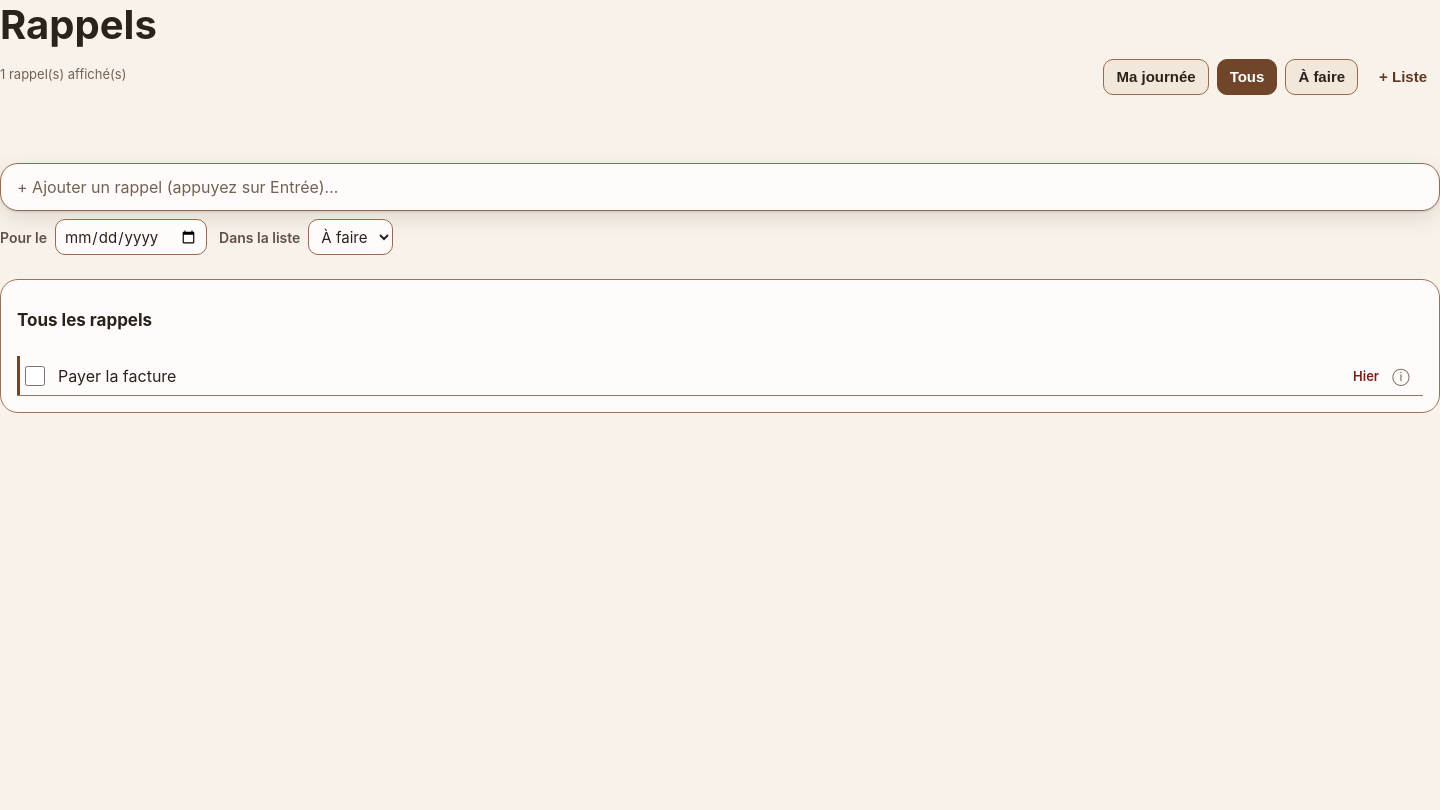
Test case: RemindersScreen › ouvre le panneau avancé (i) et modifie les propriétés du rappel
The image size is (1440, 810).
Click the button named "Propriétés avancées de « Payer la facture »": click(1401, 376) 1387,362 -> 1415,390
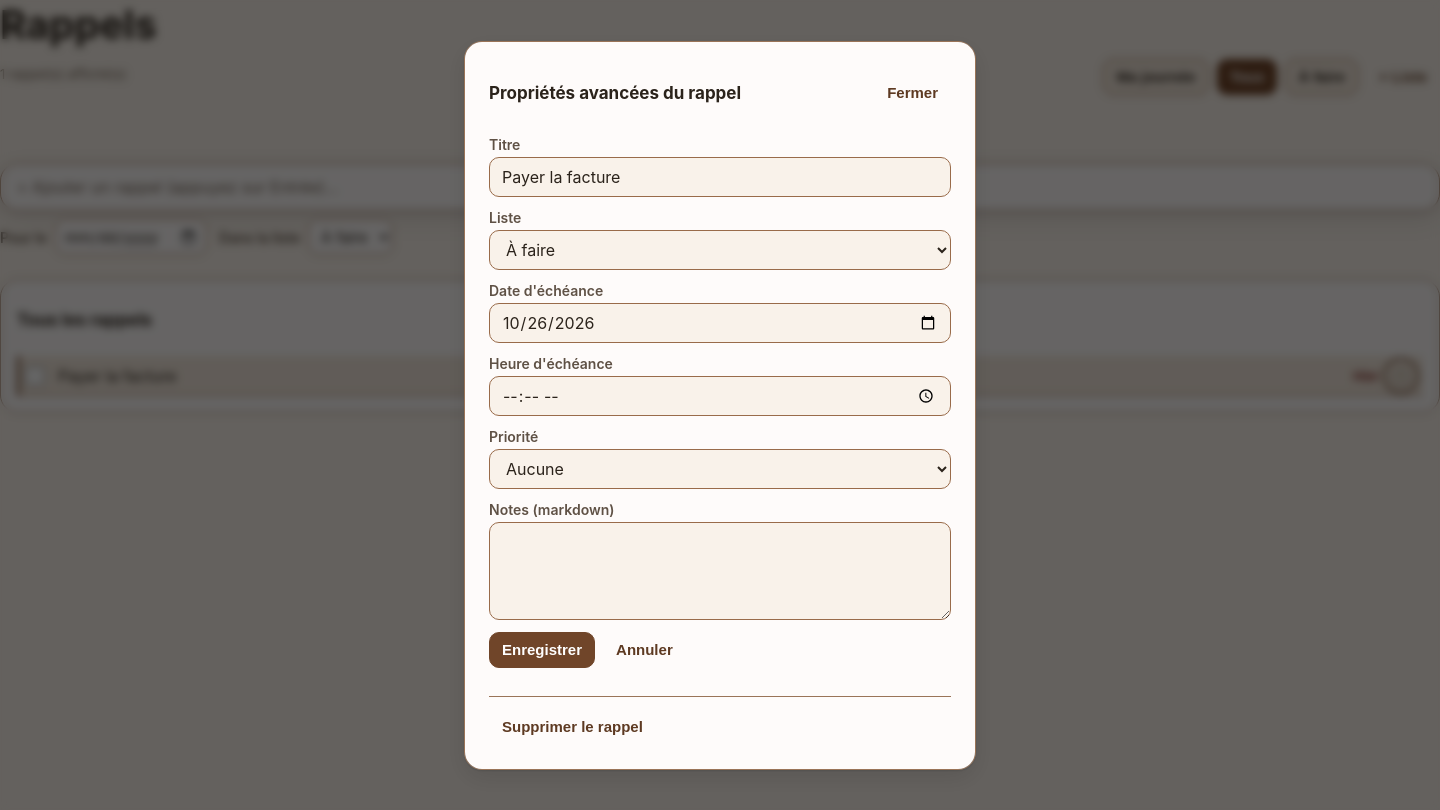
Check: the dialog shows "Propriétés avancées du rappel", box 489,82 -> 741,102
Replace the text in the field labelled "Titre" with "Facture payée et validée": (720, 176) 489,156 -> 951,196
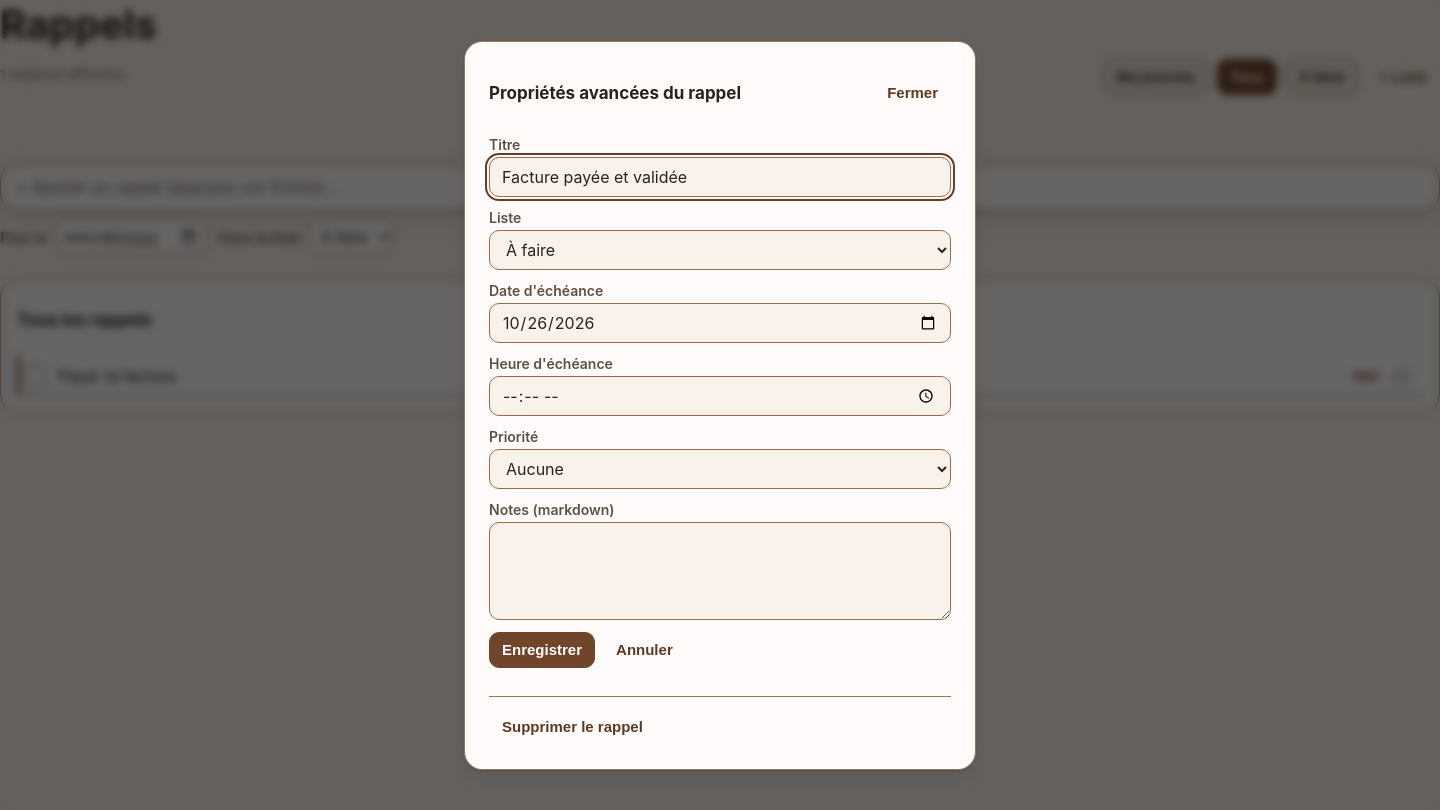
Select "Haute" in the dropdown labelled "Priorité": (720, 469) 489,449 -> 951,489
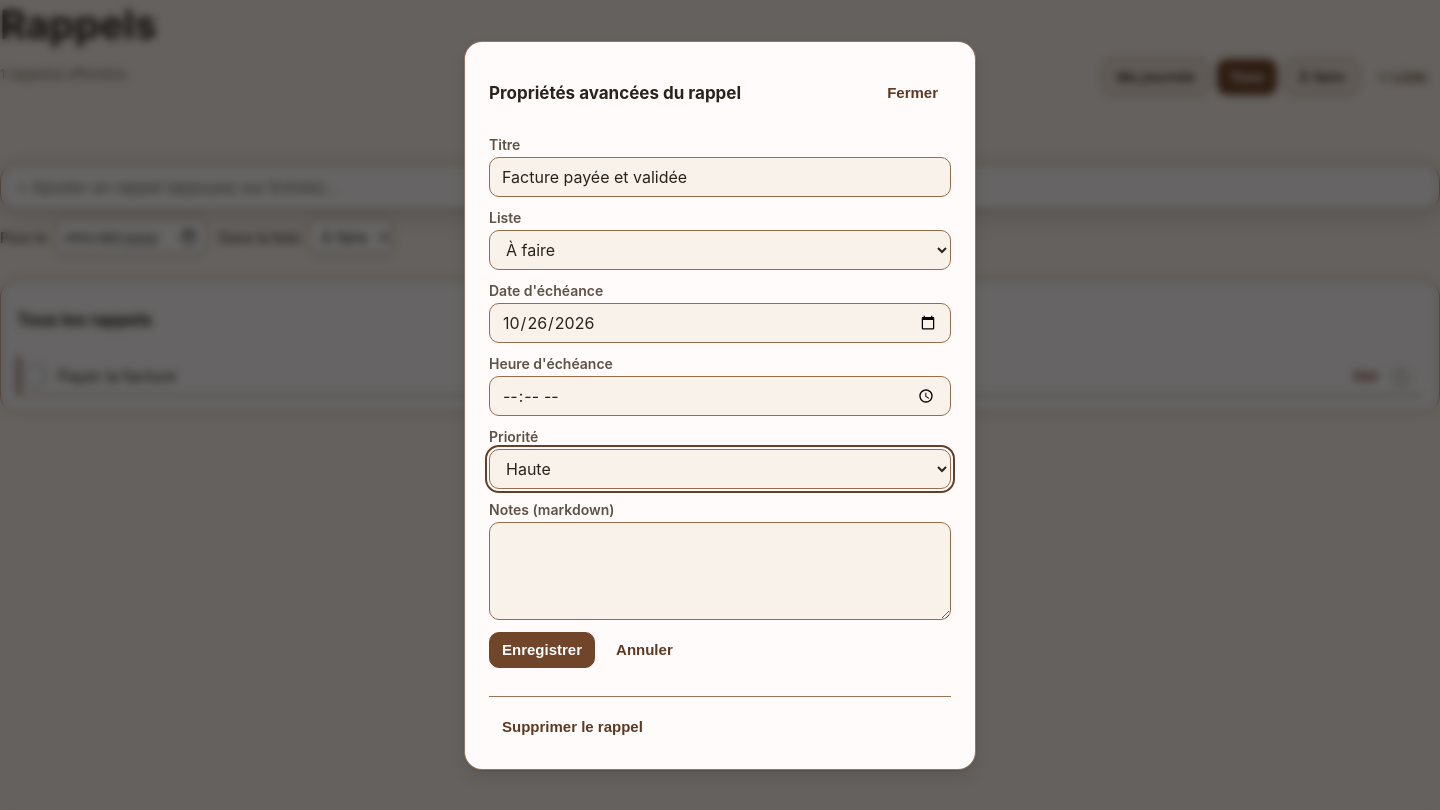
Click the button "Enregistrer": click(542, 650) 489,632 -> 595,668
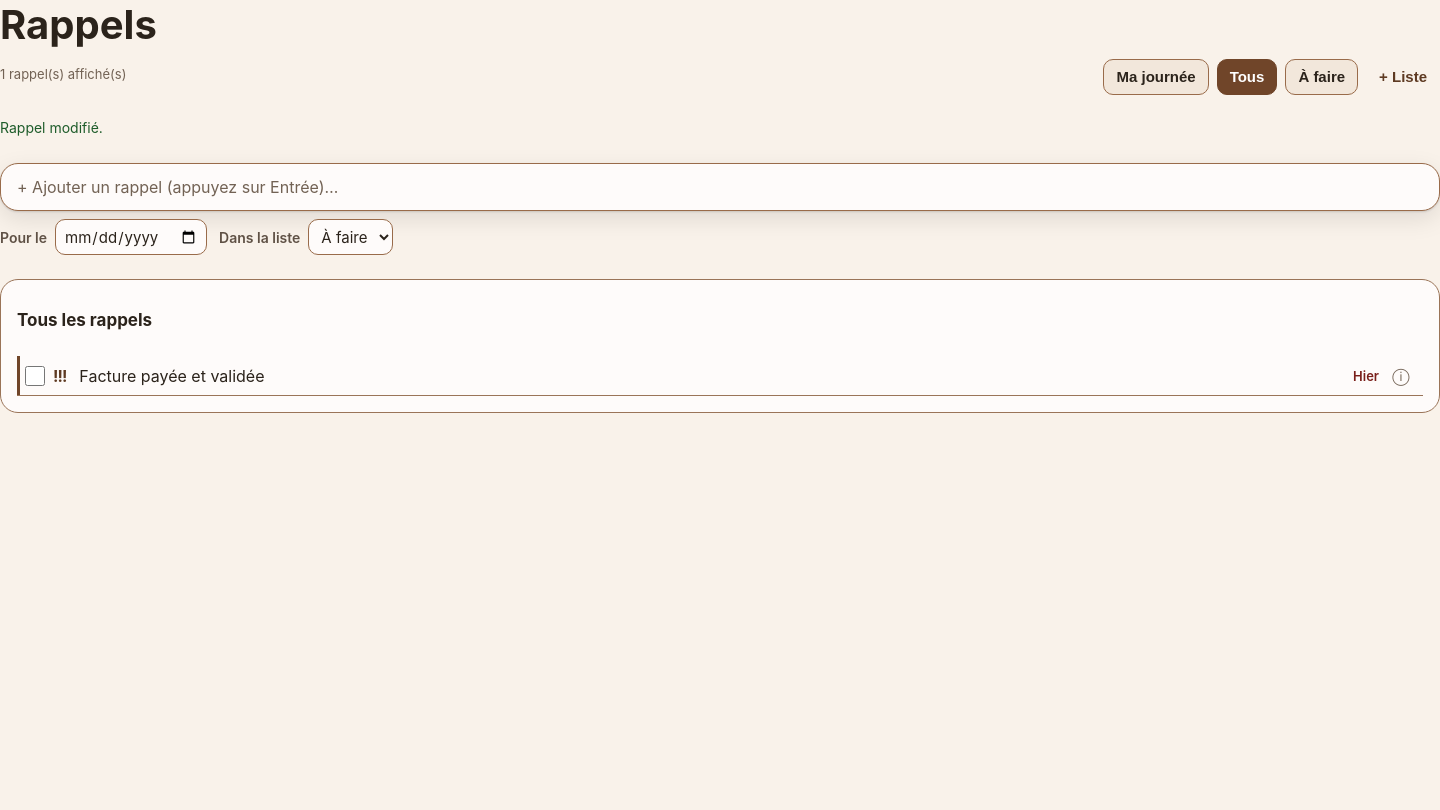
Check: the text "Rappel modifié." is shown, box 0,119 -> 103,136
Check: the field showing "Facture payée et validée" is shown, box 74,359 -> 1345,392
